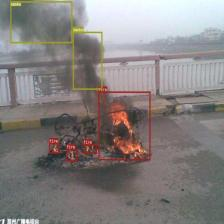fire: (98, 91, 150, 160), (66, 149, 78, 161), (83, 144, 97, 154), (49, 143, 59, 153)
smoke: (10, 1, 72, 43), (73, 32, 102, 89)
